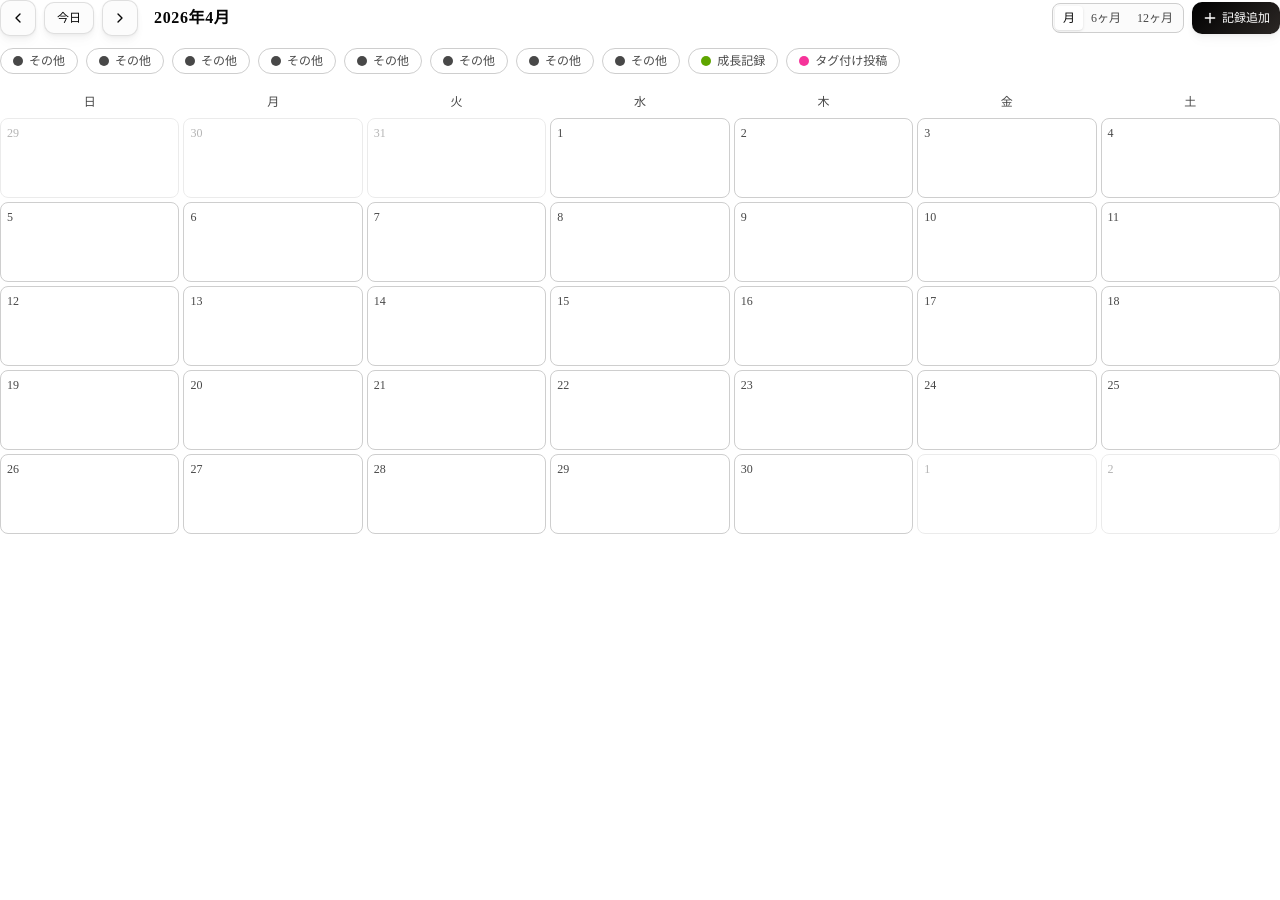
Test: BonsaiCalendarView - 新規追加（toolbar） › toolbar の「追加」ボタンをクリックすると Form が開く
What coordinates should you click on to do the following:
click the button "記録追加"
I would click on:
 (1236, 18)
Its box is [1192,2,1279,34].
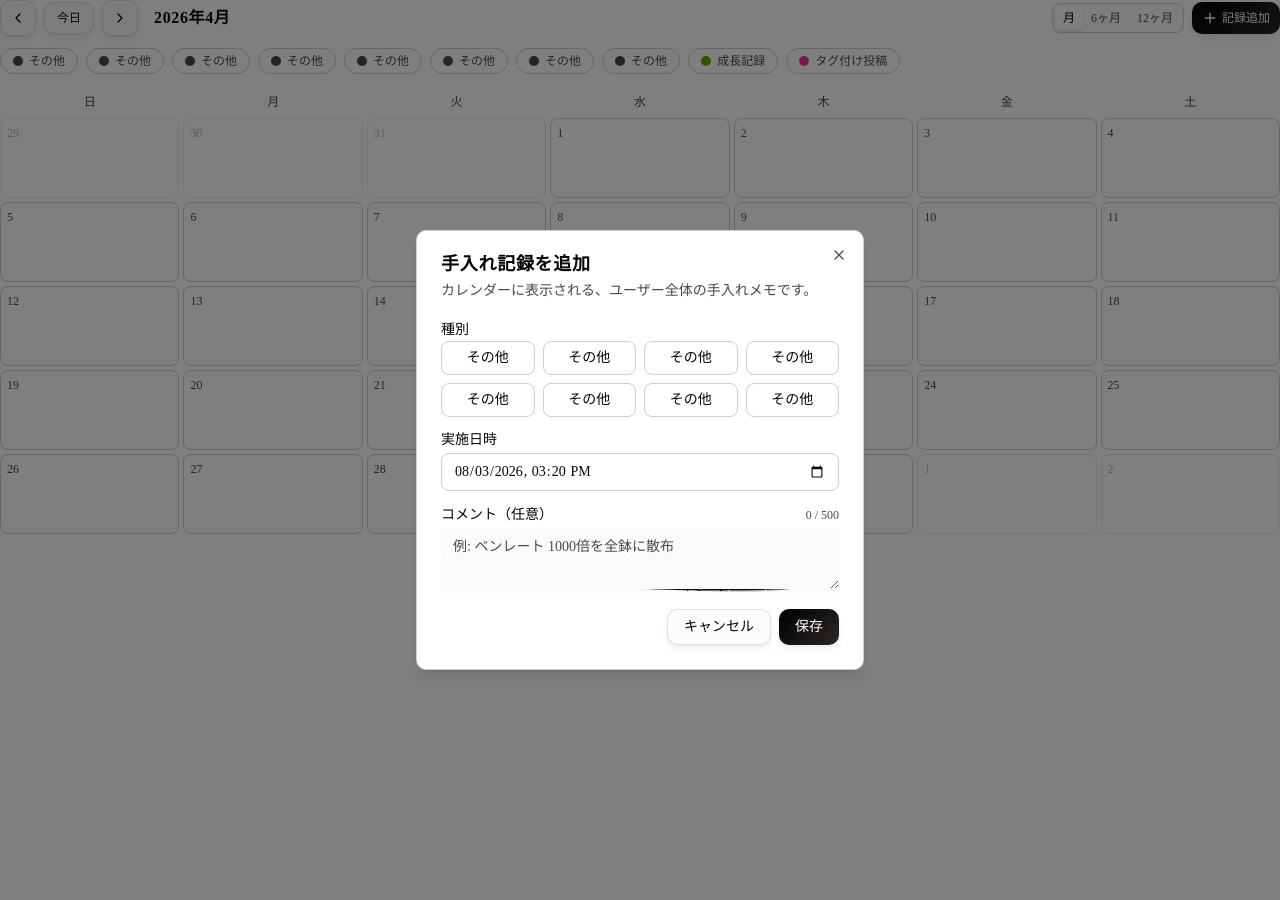
Expected: the dialog is shown, [416,230,864,670]
